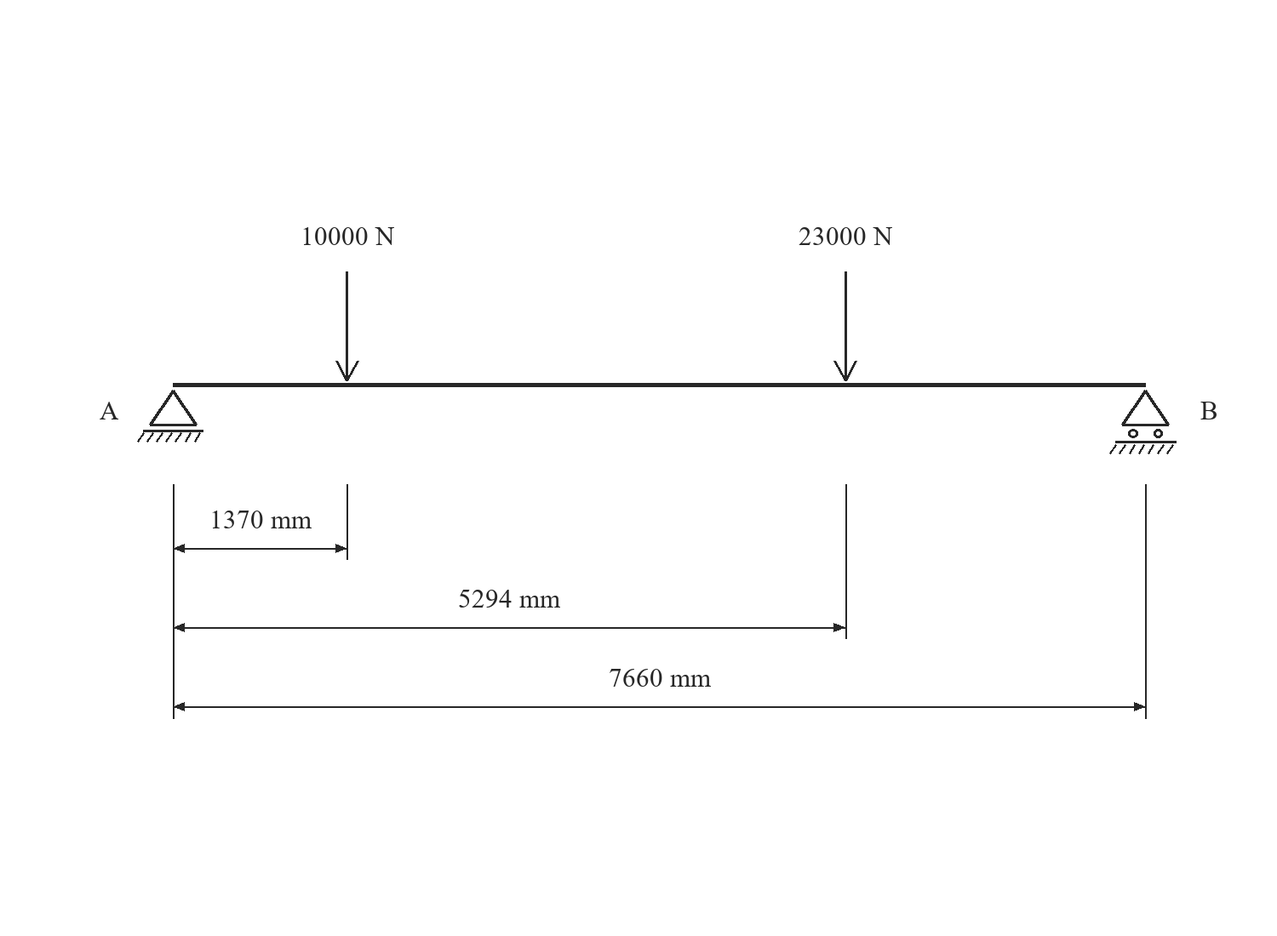pin_support: (137, 390, 203, 442)
point_load: (335, 271, 359, 381), (833, 271, 857, 381)
roller_support: (1109, 390, 1177, 454)
